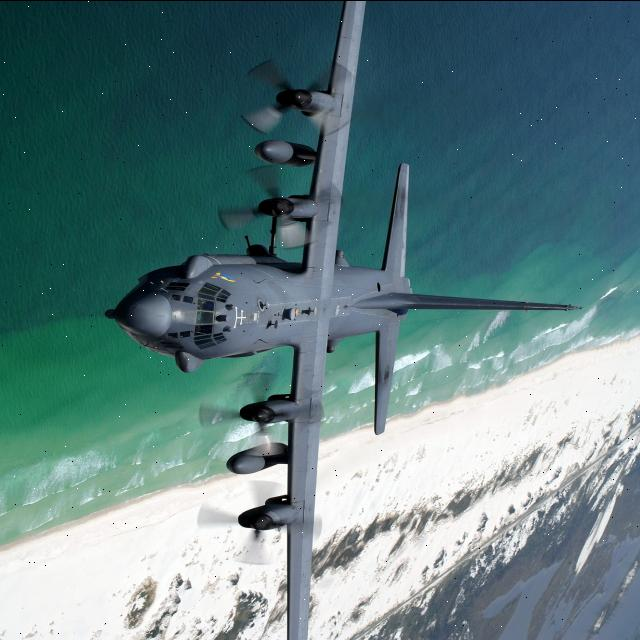C130: (88, 0, 598, 640)
